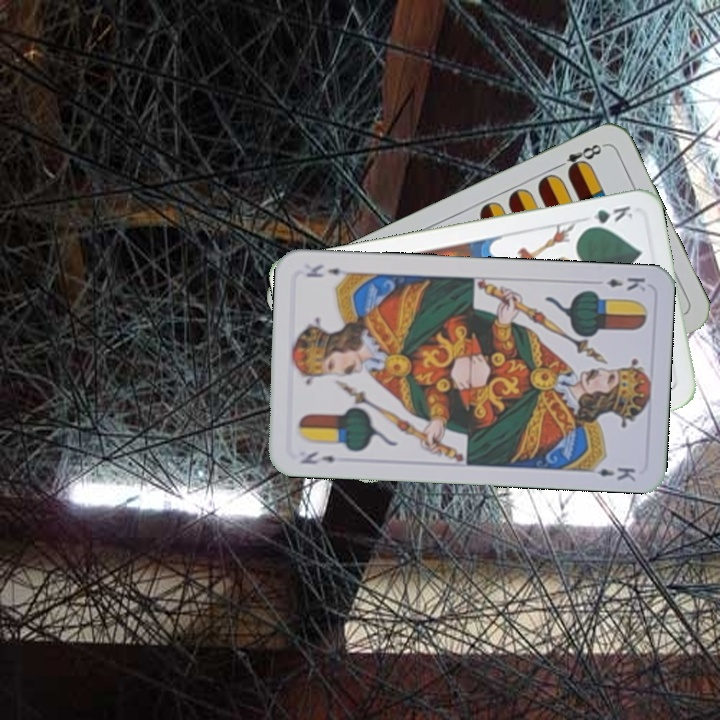E8: (551, 139, 607, 176)
EK: (602, 273, 648, 294), (297, 447, 338, 467)
GK: (578, 201, 637, 232)
